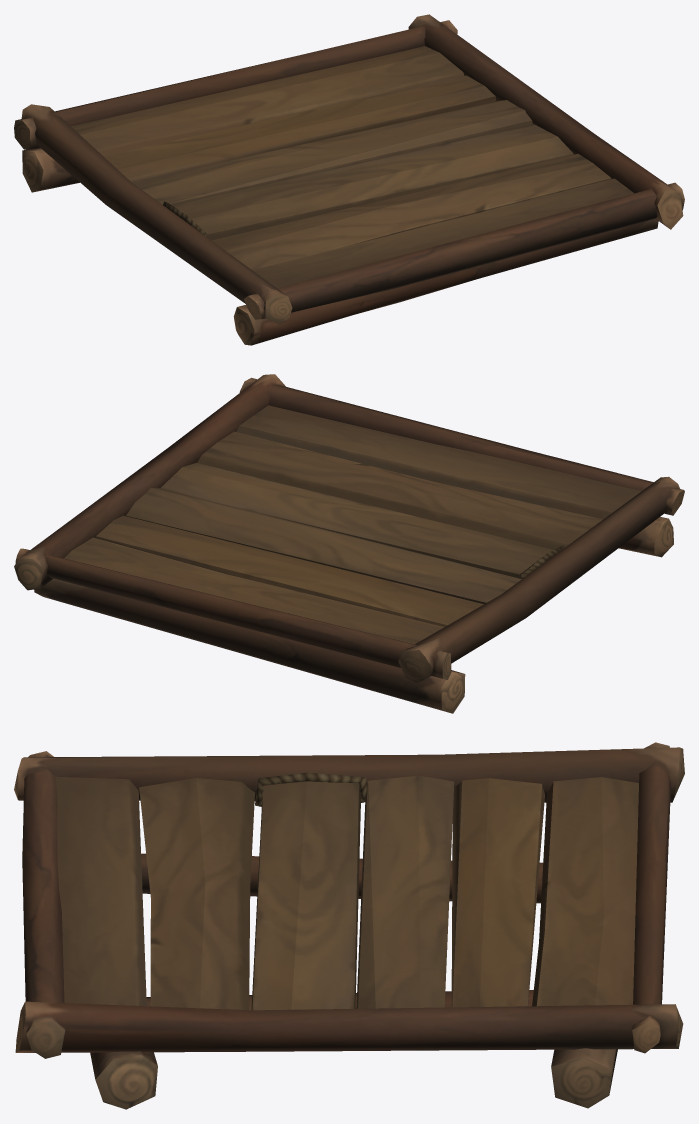
The model's file is Floor01.FBX.
The picture shows the model from 3 angles, top to bottom: view 1: azimuth 30°, elevation 25°; view 2: azimuth 150°, elevation 25°; view 3: azimuth 270°, elevation 25°; orthographic projection. The views are drawn at different scales.
Visible parts, largest first — view 1: Object072; view 2: Object072; view 3: Object072.
Boxes of the visible parts, box(x1,y1,x2,y2) form: Object072: box(14, 14, 684, 345); Object072: box(14, 374, 684, 713); Object072: box(14, 742, 684, 1109).
Bounding box in the file's own units: 2.05 × 0.3242 × 2.05.
Materials: 1 (1 with a texture image).
